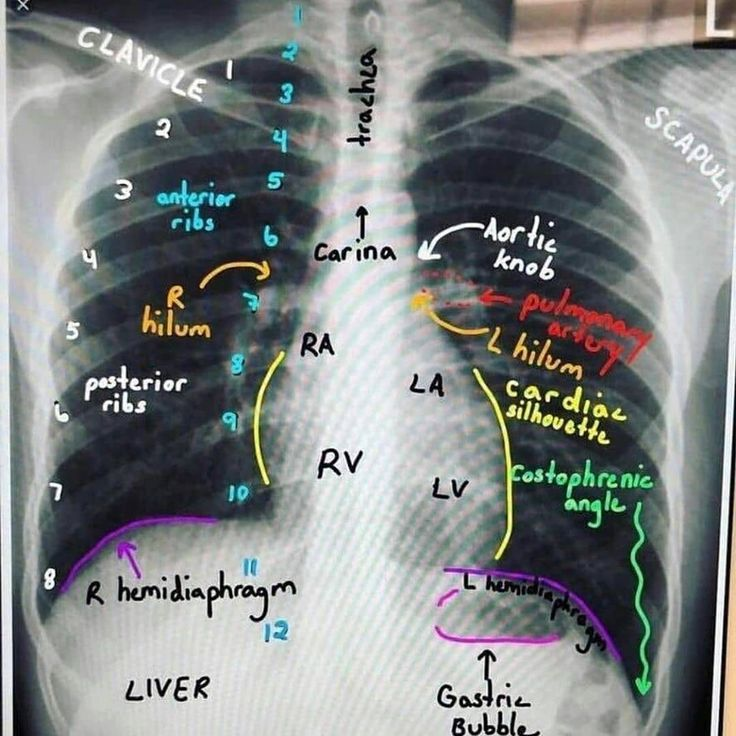telestration: (437, 561, 615, 650), (456, 567, 605, 655), (56, 512, 219, 591), (515, 284, 651, 376), (76, 20, 205, 103), (638, 105, 732, 210), (84, 575, 299, 620), (500, 373, 623, 446), (472, 367, 514, 558), (505, 461, 652, 514), (80, 364, 186, 415), (151, 179, 237, 234), (428, 618, 573, 649), (484, 214, 553, 277), (509, 323, 584, 380), (136, 283, 212, 338), (256, 345, 284, 490), (433, 677, 536, 710), (415, 214, 477, 268), (196, 256, 280, 291), (120, 674, 216, 704), (354, 45, 380, 142), (311, 241, 400, 262), (314, 442, 362, 477), (408, 365, 447, 399), (430, 468, 467, 503), (114, 540, 143, 579), (299, 329, 338, 357), (76, 244, 106, 272), (216, 406, 241, 439), (260, 620, 288, 646), (52, 389, 69, 431), (350, 206, 373, 237), (39, 565, 60, 597), (431, 584, 464, 604), (61, 316, 83, 344), (154, 112, 175, 141), (225, 479, 249, 504), (239, 291, 264, 314), (237, 556, 263, 577), (113, 177, 133, 204), (260, 222, 280, 249), (42, 478, 66, 500), (226, 349, 244, 378), (271, 128, 289, 157), (277, 81, 295, 106), (268, 167, 284, 194), (280, 38, 296, 63), (291, 2, 306, 28)
